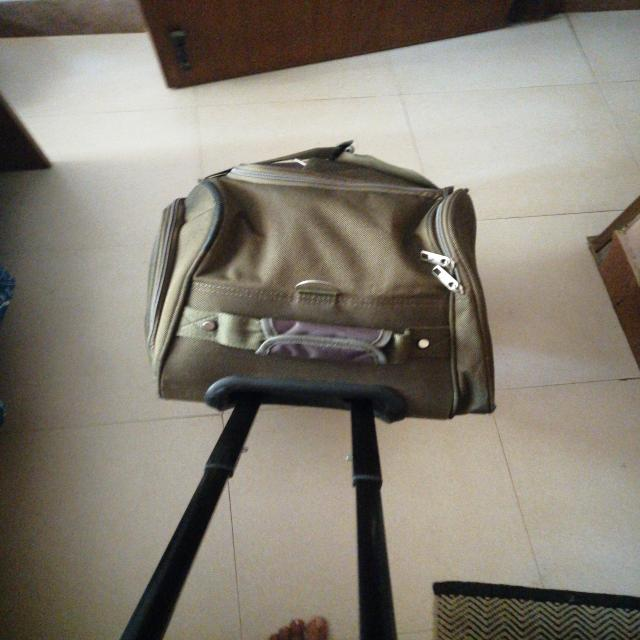suitcaserotation: (112, 136, 499, 638)
